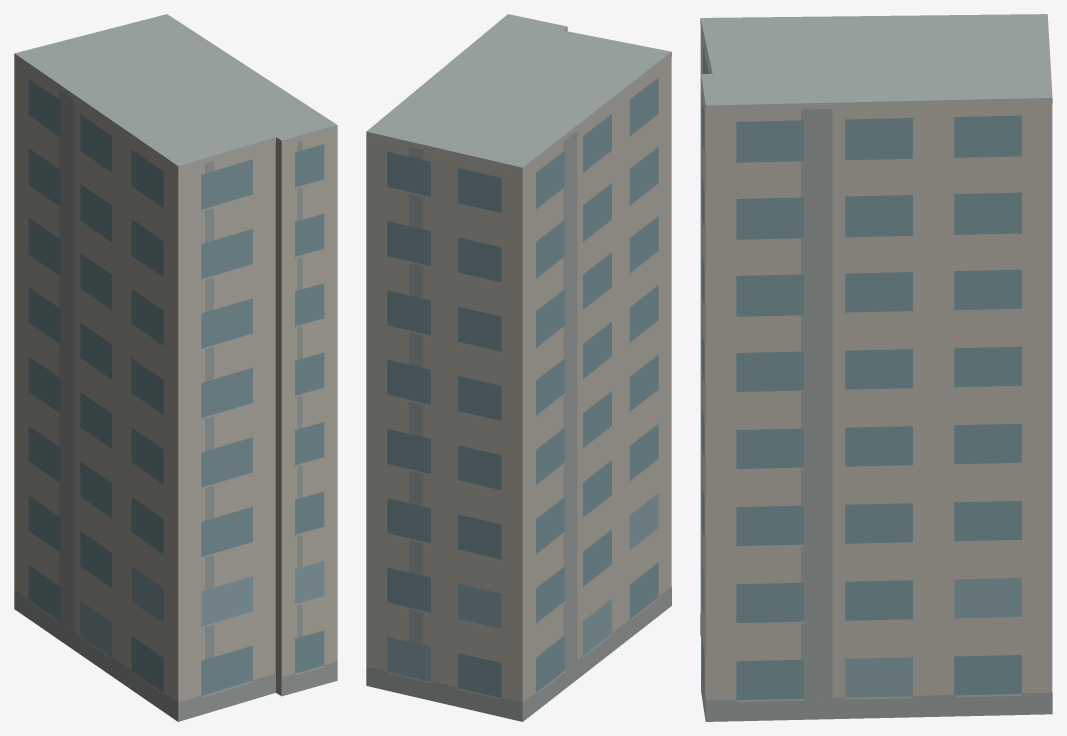
The model's file is survey-upis-33018974.glb.
The picture shows the model from 3 angles, left to right: view 1: azimuth 30°, elevation 25°; view 2: azimuth 150°, elevation 25°; view 3: azimuth 270°, elevation 25°; orthographic projection. The views are drawn at different scales.
Visible parts, largest first — view 1: survey-upis-33018974.tmp; view 2: survey-upis-33018974.tmp; view 3: survey-upis-33018974.tmp.
Part boxes in pixels (<box>): survey-upis-33018974.tmp: <box>14,14,337,721</box>; survey-upis-33018974.tmp: <box>366,14,671,721</box>; survey-upis-33018974.tmp: <box>700,14,1052,721</box>.
Bounding box in the file's own units: 7.77 × 24.4 × 12.64.
